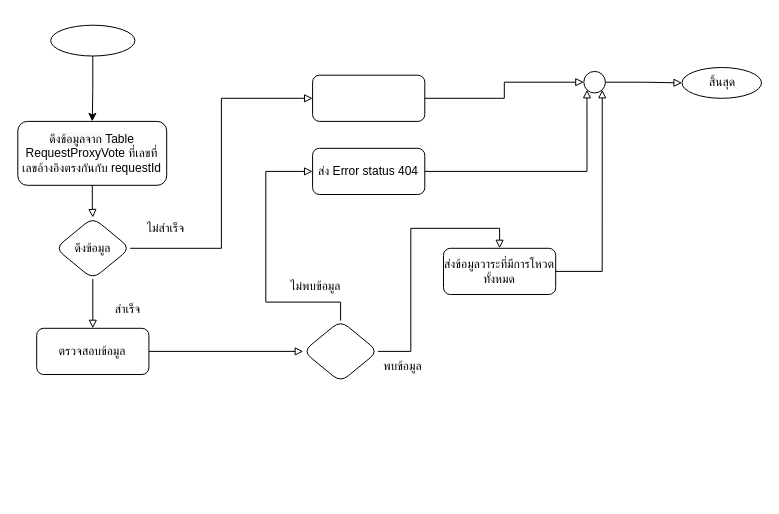
The diagram is 779 pixels wide and 514 high, and some of its shapes have lost their labels. Each missing label, with the centre of its shape:
มีข้อมูล: point 340,351
ส่ง Error status 500: point 368,97
เริ่มต้น: point 92,40
